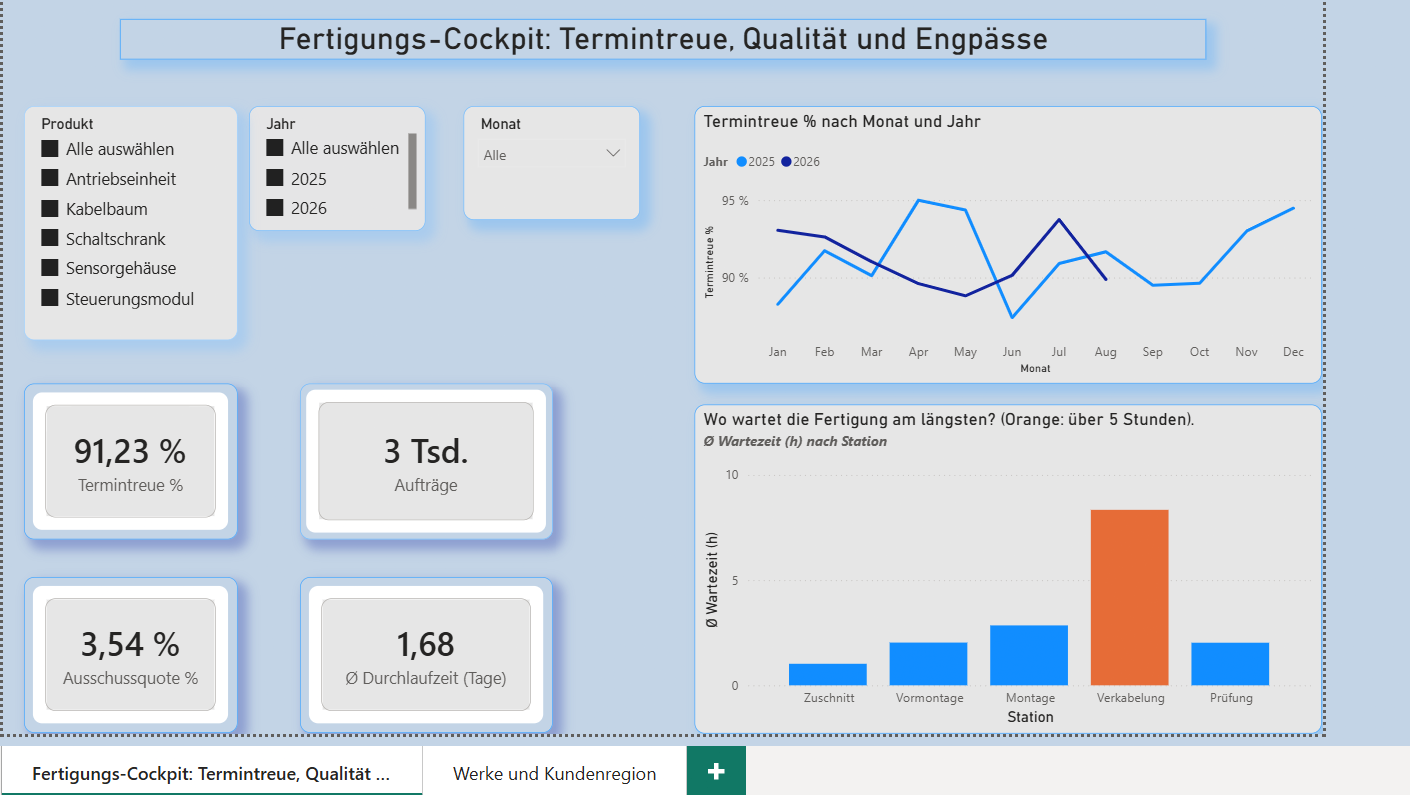

What the dashboard file says about the page in this screenshot:
{"tool":"powerbi","page":{"name":"Fertigungs-Cockpit: Termintreue, Qualität und Engpässe","canvas":[1280,720],"ordinal":0},"visuals":[{"type":"cardVisual","fields":{"Data":["fakt_auftraege.Termintreue %"]},"box":[19.7,380.1,207.4,151.4],"z":0},{"type":"lineChart","fields":{"Y":["fakt_auftraege.Termintreue %"],"Series":["dim_datum.Jahr"],"Category":["dim_datum.Monatsname"]},"box":[670.8,110.5,608.7,269.5],"z":1000},{"type":"clusteredColumnChart","title":"Wo wartet die Fertigung am längsten? (Orange: über 5 Stunden).","fields":{"Y":["Tab_Measures.Ø Wartezeit (h)"],"Category":["dim_station.Station"]},"box":[670.8,399.8,608.7,319.5],"z":2000},{"type":"slicer","fields":{"Values":["dim_datum.Jahr"]},"box":[239.2,110.5,171.1,121.1],"z":3000},{"type":"slicer","fields":{"Values":["dim_produkt.Produkt"]},"box":[19.7,110.5,207.4,227.1],"z":4000},{"type":"slicer","fields":{"Values":["dim_datum.Monatsname"]},"box":[446.7,110.5,171.1,110.5],"z":5000},{"type":"cardVisual","fields":{"Data":["fakt_auftraege.Aufträge"]},"box":[287.7,380.1,245.3,151.4],"z":6000},{"type":"cardVisual","fields":{"Data":["Tab_Measures.Ausschussquote %"]},"box":[19.7,567.8,207.4,151.4],"z":7000},{"type":"cardVisual","title":"Ø Durchlaufzeit (Tage","fields":{"Data":["Tab_Measures.Ø Durchlaufzeit (Tage)"]},"box":[287.7,567.8,245.3,151.4],"z":8000},{"type":"actionButton","title":"Fertigungs-Cockpit: Termintreue, Qualität und Engpässe","box":[113.6,25.7,1053.9,39.4],"z":9000}]}

Visuals, with their boxes on the page's 1280x720 design canvas (x1, y1, x2, y2). These are canvas units, not pixel positions in the 1410x795 screenshot, which may show the page scaled, cropped or inside an application window:
cardVisual - fakt_auftraege.Termintreue %: {"x1": 20, "y1": 380, "x2": 227, "y2": 532}
lineChart - fakt_auftraege.Termintreue % x dim_datum.Jahr: {"x1": 671, "y1": 110, "x2": 1280, "y2": 380}
"Wo wartet die Fertigung am längsten? (Orange: über 5 Stunden)." clusteredColumnChart: {"x1": 671, "y1": 400, "x2": 1280, "y2": 719}
slicer - dim_datum.Jahr: {"x1": 239, "y1": 110, "x2": 410, "y2": 232}
slicer - dim_produkt.Produkt: {"x1": 20, "y1": 110, "x2": 227, "y2": 338}
slicer - dim_datum.Monatsname: {"x1": 447, "y1": 110, "x2": 618, "y2": 221}
cardVisual - fakt_auftraege.Aufträge: {"x1": 288, "y1": 380, "x2": 533, "y2": 532}
cardVisual - Tab_Measures.Ausschussquote %: {"x1": 20, "y1": 568, "x2": 227, "y2": 719}
"Ø Durchlaufzeit (Tage" cardVisual: {"x1": 288, "y1": 568, "x2": 533, "y2": 719}
"Fertigungs-Cockpit: Termintreue, Qualität und Engpässe" actionButton: {"x1": 114, "y1": 26, "x2": 1168, "y2": 65}
